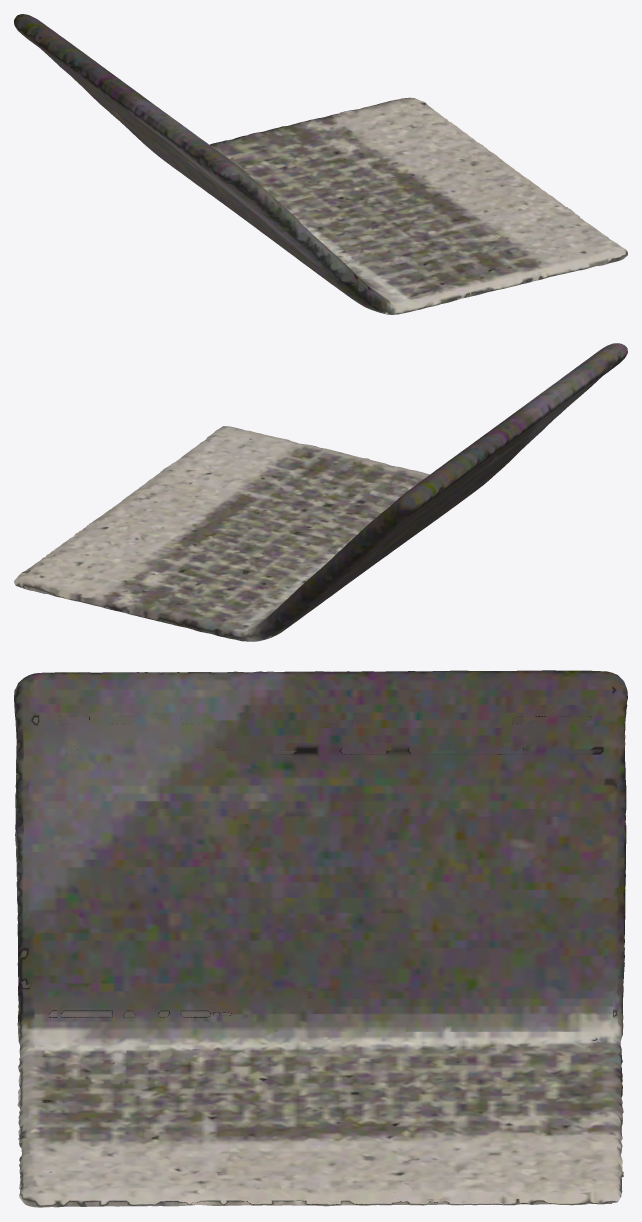
Rendered from mesh_net01_pcd.glb.
The picture shows the model from 3 angles, top to bottom: view 1: azimuth 30°, elevation 25°; view 2: azimuth 150°, elevation 25°; view 3: azimuth 270°, elevation 25°; orthographic projection. The views are drawn at different scales.
Bounding box in the file's own units: 0.7017 × 0.311 × 0.6496.
